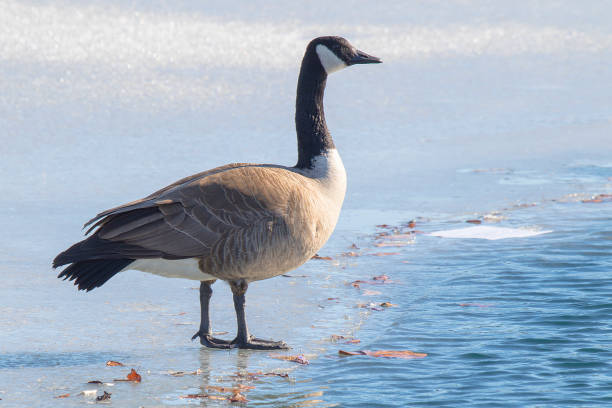goose: (50, 30, 384, 361)
